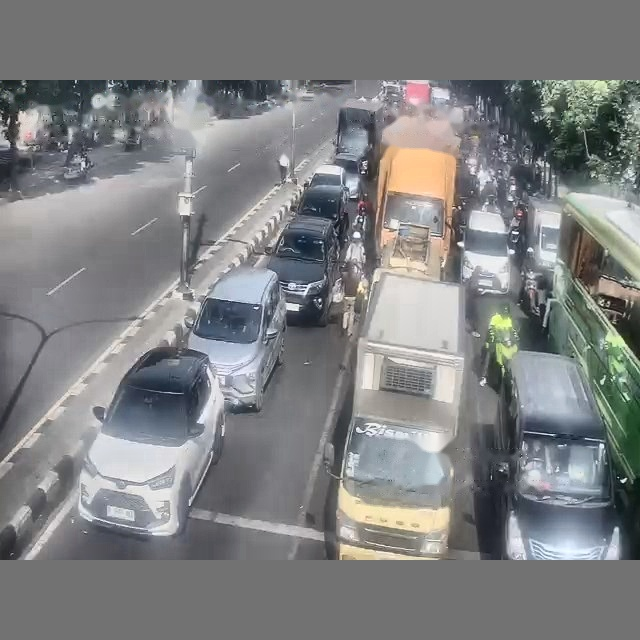Bis: (547, 192, 639, 506)
Mobil: (486, 351, 622, 559), (78, 347, 224, 536), (185, 267, 286, 411), (267, 216, 340, 325), (457, 210, 513, 295), (295, 184, 348, 243), (306, 163, 348, 201), (334, 153, 365, 200)
Motor: (487, 329, 518, 388), (63, 154, 92, 181)
Truk: (334, 269, 464, 559), (374, 116, 459, 278)
